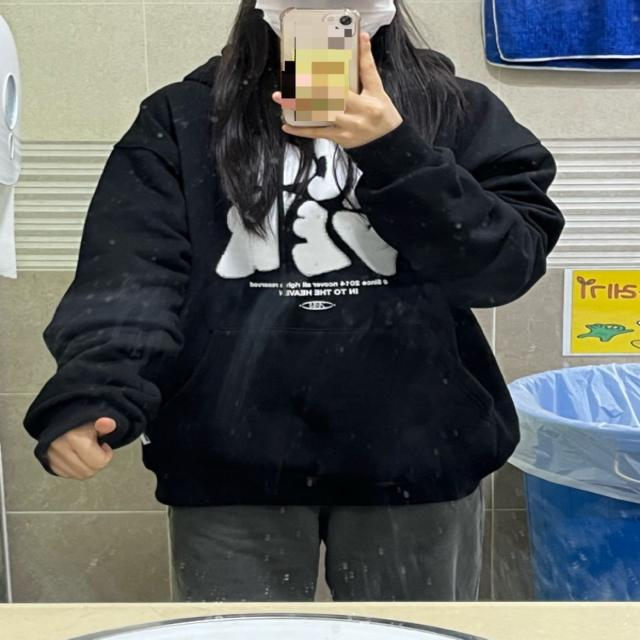denimpants: (162, 466, 490, 597)
hoodies: (22, 47, 561, 510)
